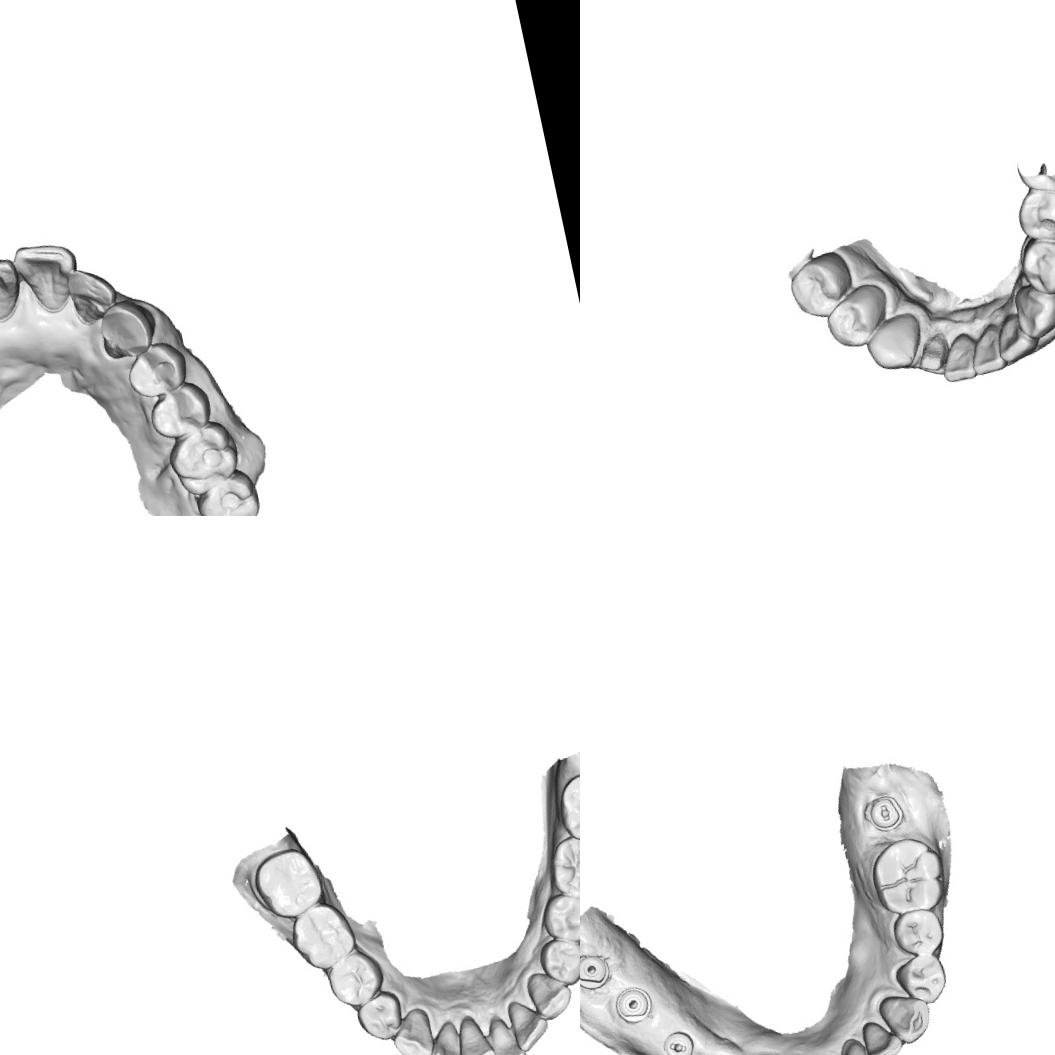canine: (92, 294, 161, 363), (860, 310, 928, 376), (875, 986, 936, 1050), (523, 965, 578, 1024), (1011, 276, 1055, 340), (385, 1004, 439, 1055)
crown: (914, 333, 952, 374)
implant: (610, 982, 656, 1028), (580, 949, 615, 994)
implant_minus: (862, 790, 907, 835), (659, 1026, 698, 1055)
incisor: (9, 236, 86, 320), (62, 262, 122, 326), (504, 994, 554, 1054), (991, 310, 1043, 366), (965, 322, 1006, 376), (450, 1010, 499, 1055), (0, 249, 27, 330), (936, 332, 976, 384), (857, 1014, 907, 1055), (483, 1013, 529, 1055), (423, 1017, 471, 1055), (836, 1036, 884, 1055)
molar: (864, 830, 953, 921), (247, 841, 330, 924), (162, 416, 246, 498), (284, 896, 362, 977), (191, 468, 266, 516), (543, 828, 580, 905), (551, 764, 580, 847)
premolar: (784, 249, 859, 324), (322, 945, 391, 1013), (144, 379, 216, 444), (122, 336, 192, 402), (890, 948, 953, 1010), (822, 288, 883, 352), (886, 903, 948, 963), (351, 986, 408, 1048), (536, 885, 580, 950), (1013, 180, 1055, 246), (1015, 231, 1055, 299), (535, 932, 580, 991)
